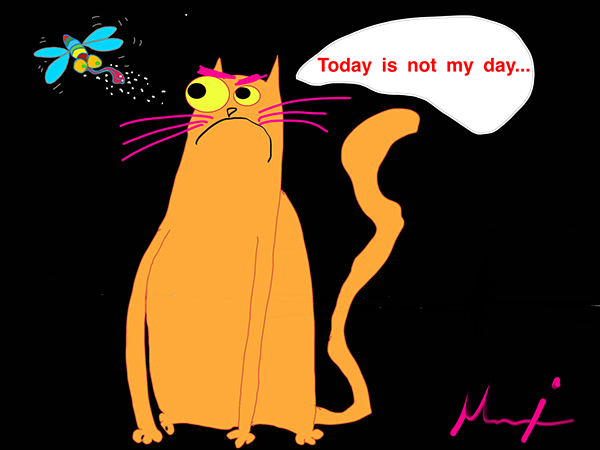cat: (114, 52, 442, 448)
